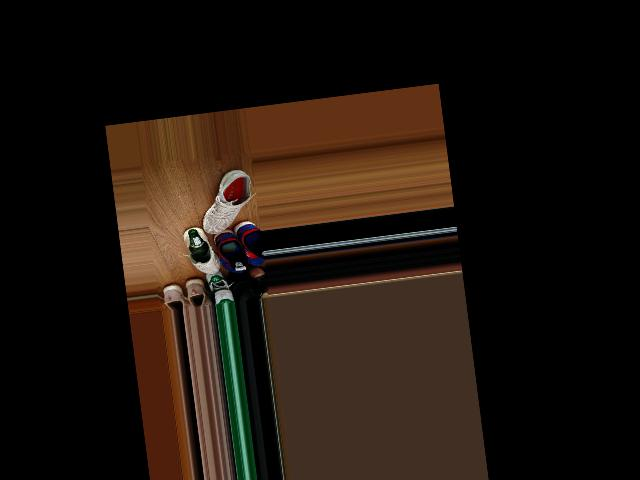beer: (186, 227, 211, 263)
